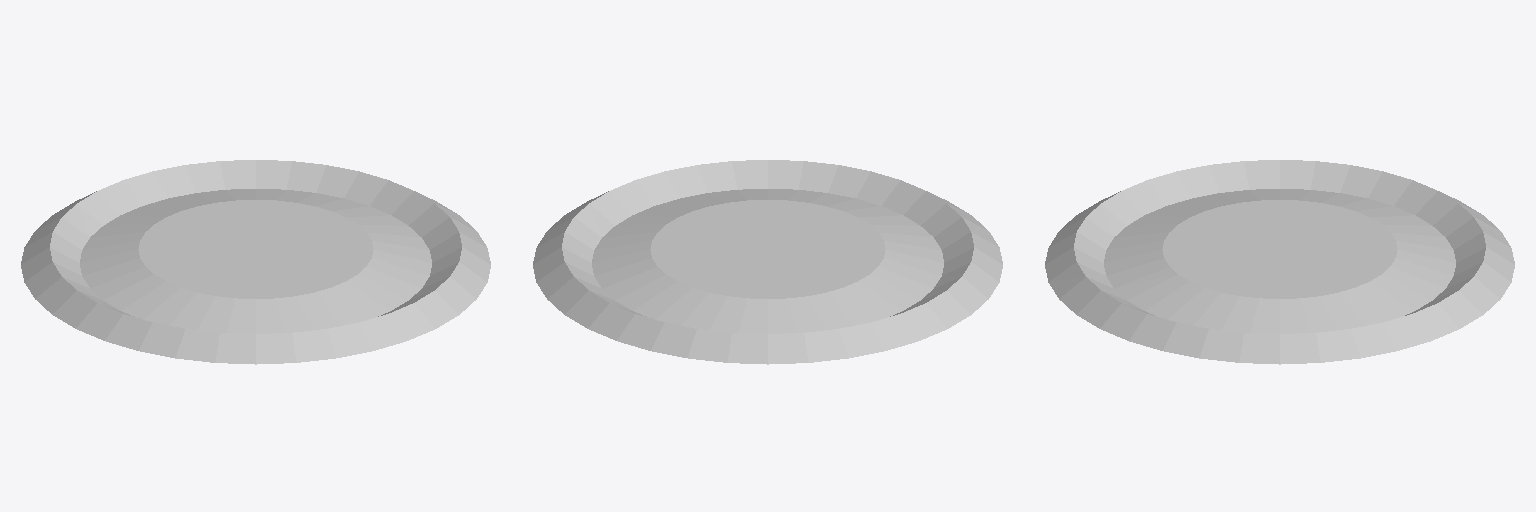
The model's file is dufftop_002.obj.
The picture shows the model from 3 angles: view 1: azimuth 30°, elevation 25°; view 2: azimuth 150°, elevation 25°; view 3: azimuth 270°, elevation 25°; orthographic projection.
Parts seen in each view (by area): view 1: dufftop.002; view 2: dufftop.002; view 3: dufftop.002.
Part boxes in pixels (x1,y1,x2,y2): dufftop.002: (21,160,490,364); dufftop.002: (533,160,1002,364); dufftop.002: (1045,160,1514,364).
Bounding box in the file's own units: 173 × 7.39 × 173.